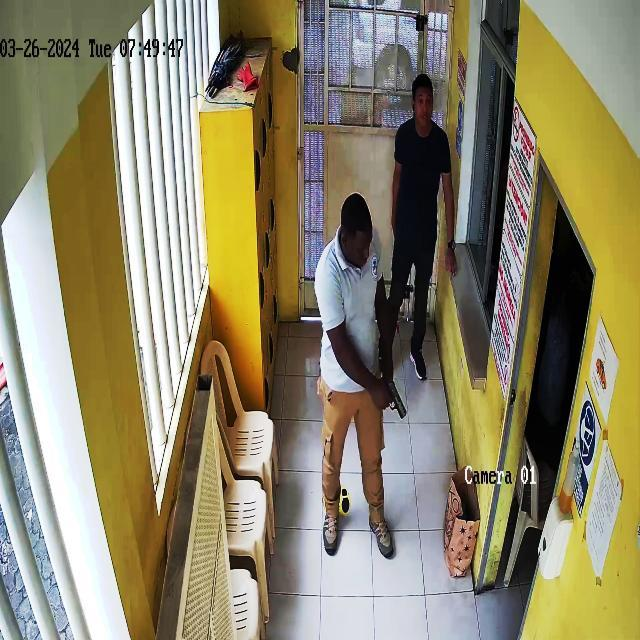Gun: (373, 374, 410, 424)
